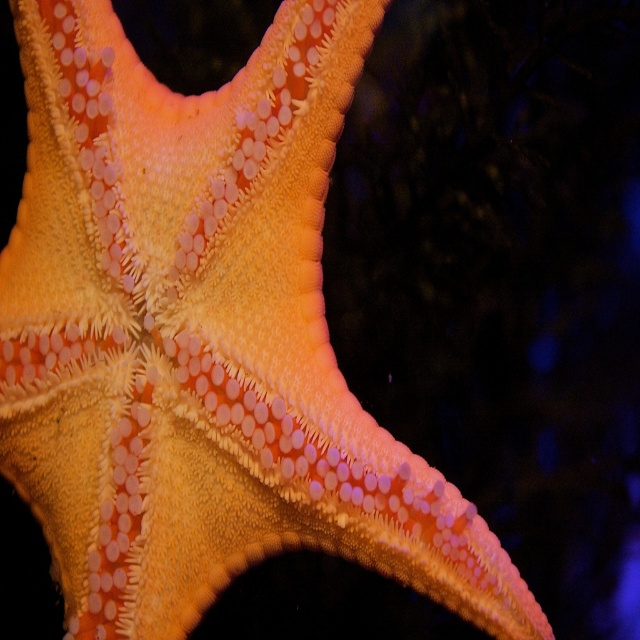Starfish: (0, 0, 556, 640)
